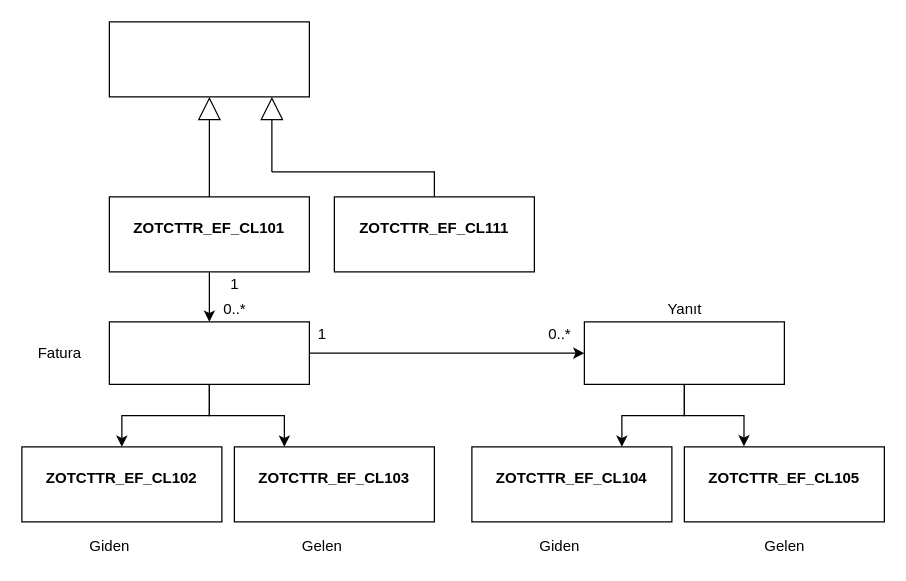
This 906x581 diagram has some shape labels left out. The box of each missing label's shape, as (x1, y1, x2, y2) in pixels:
ZOTCTTR_EF_CL000: (108, 21, 309, 97)
«interface» ZOTCTTR_EF_IF101: (108, 321, 309, 384)
«interface» ZOTCTTR_EF_IF102: (583, 321, 784, 384)
